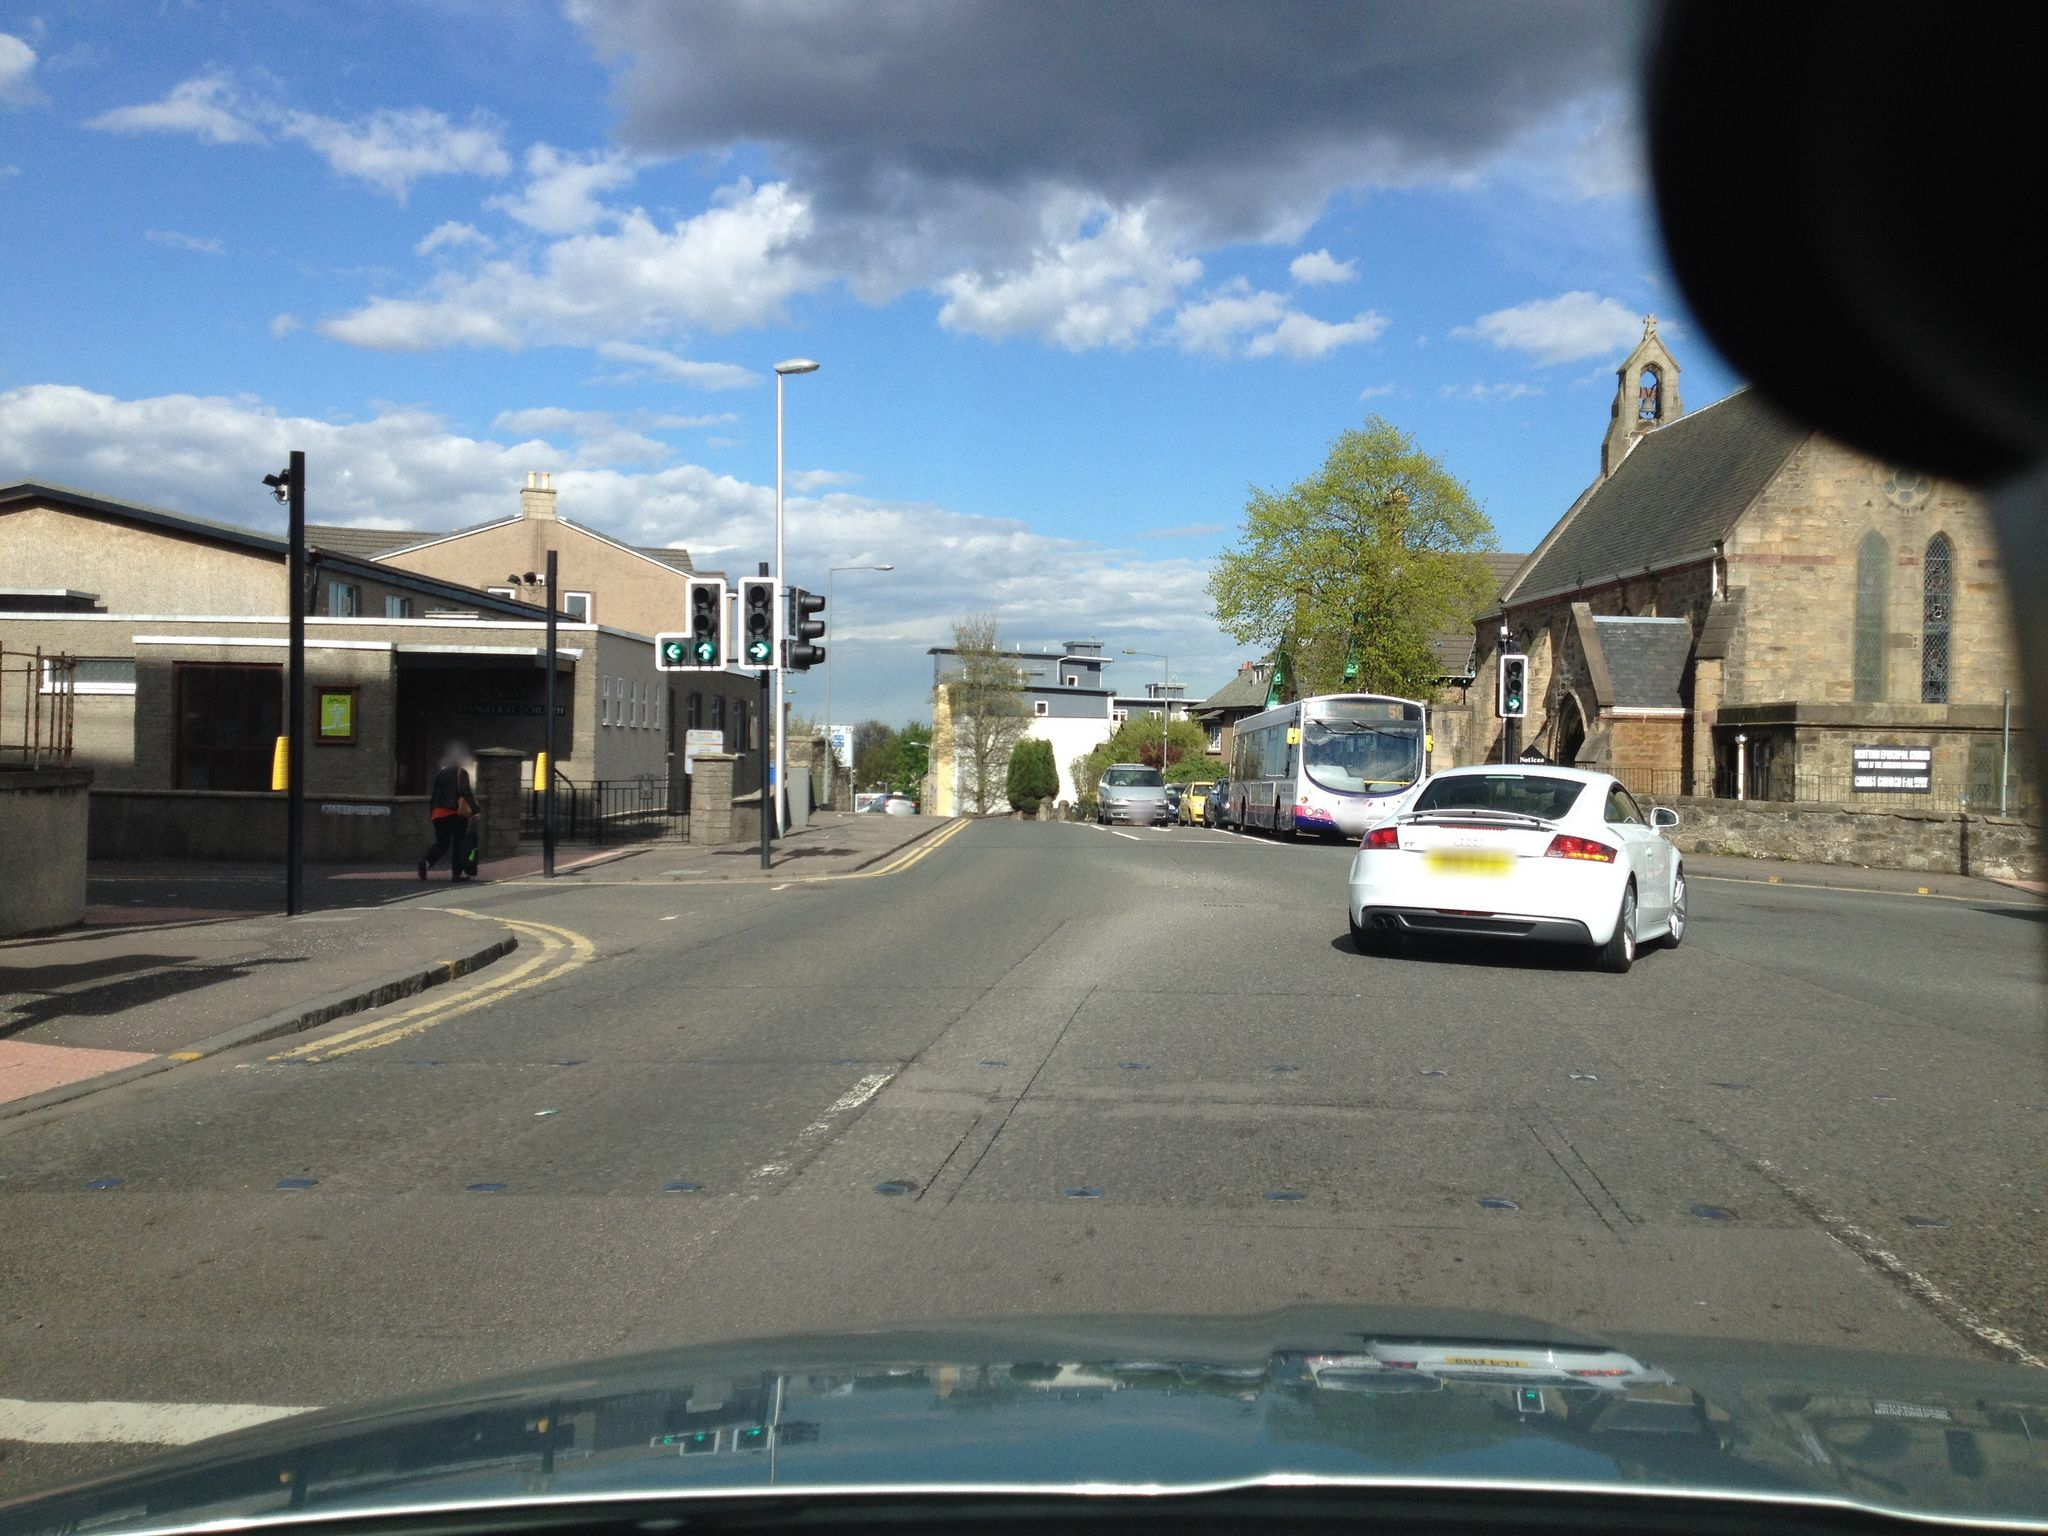bus: (1222, 694, 1430, 837)
car: (1348, 765, 1687, 975), (1095, 762, 1171, 828), (1177, 779, 1214, 828), (1203, 778, 1232, 829)
